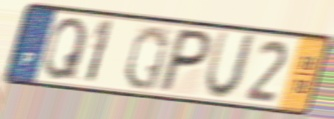1: (83, 18, 116, 87)
2: (243, 38, 290, 103)
P: (154, 26, 216, 94)
Q: (121, 23, 171, 93), (41, 15, 90, 82)
U: (201, 29, 259, 103)
